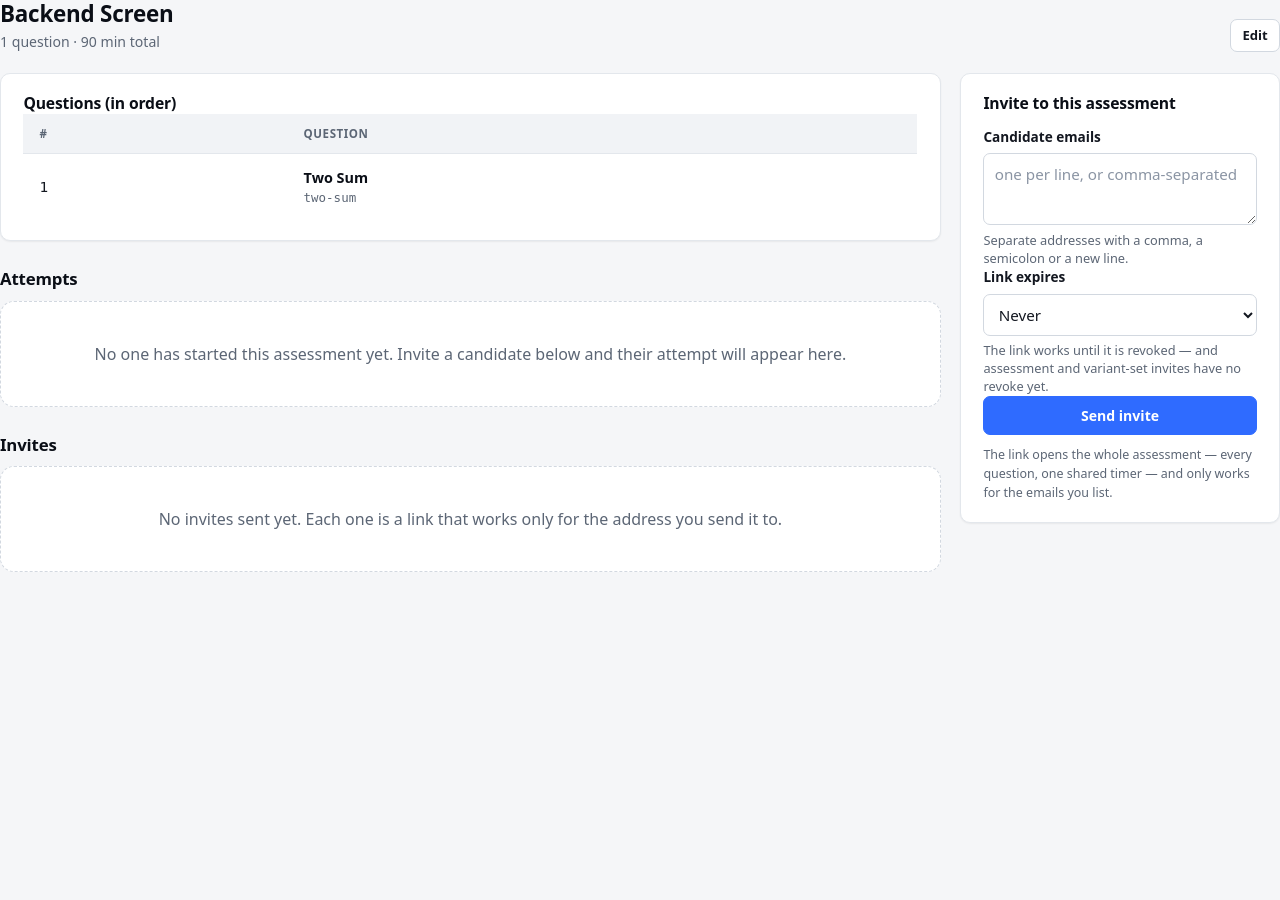
Test: AssessmentDetailPage — edit settings › saves settings with the current proctored value and unchanged slots, then re-renders
Expected: the heading "Backend Screen" is shown, [0,0,174,28]
Click the button "Edit".
click(1255, 36)  # box [1230,19,1279,52]
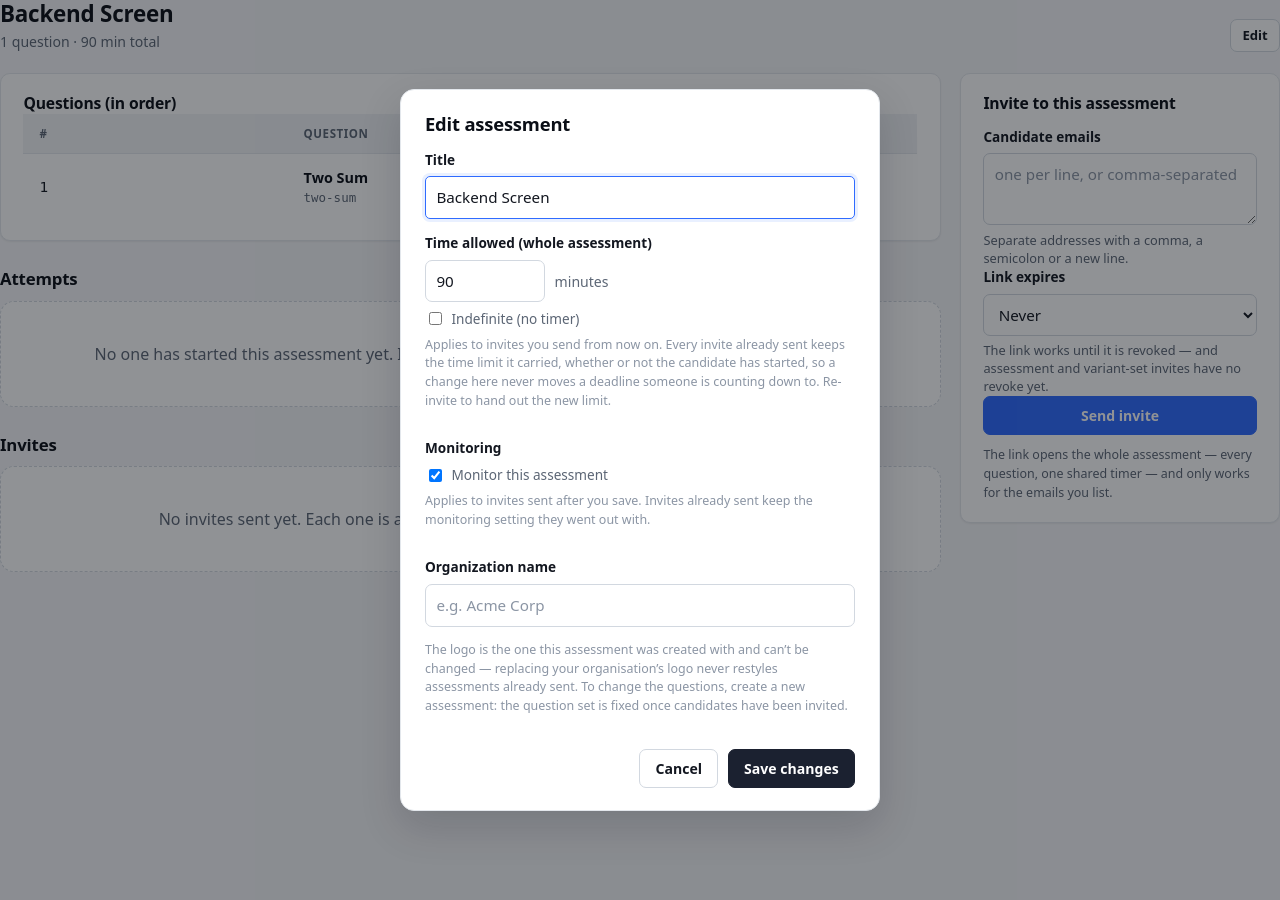
Replace the text in the field labelled "Title" with "Backend Screen v2" at (640, 198), box [425,176,855,219]
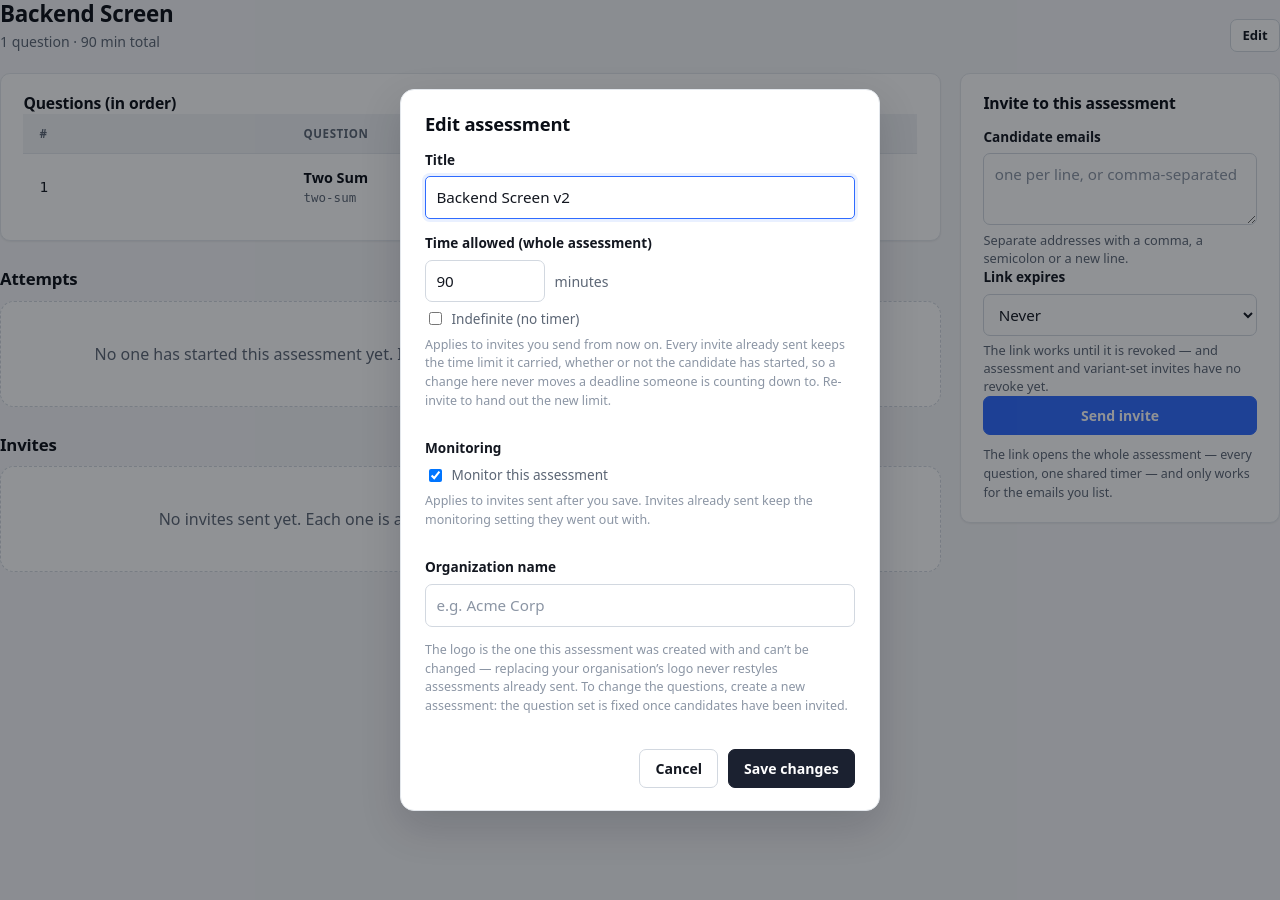
Click the checkbox named "monitor this assessment".
click(436, 475)  # box [429,469,442,482]
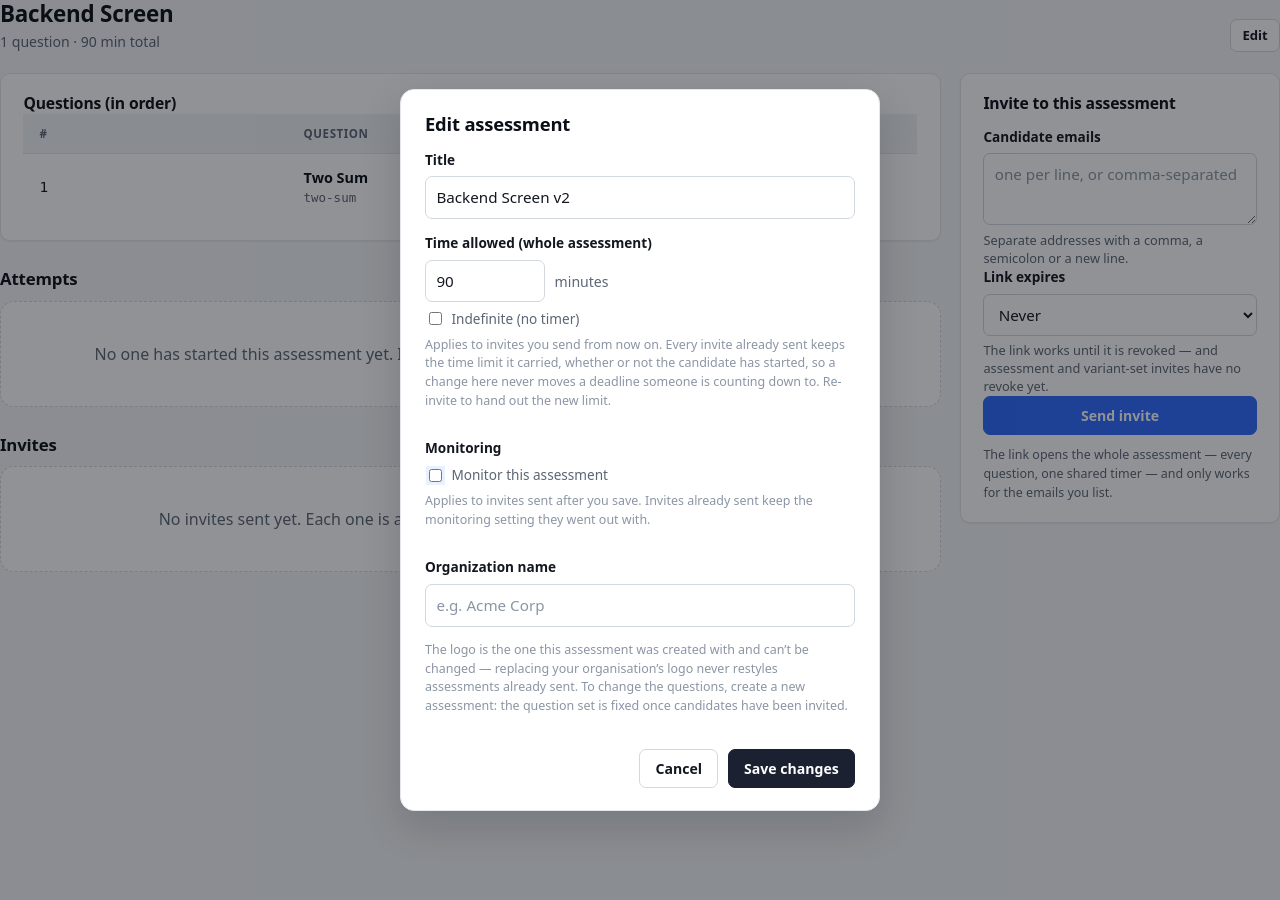
Click the button "Save changes".
click(791, 768)  # box [728,749,855,788]
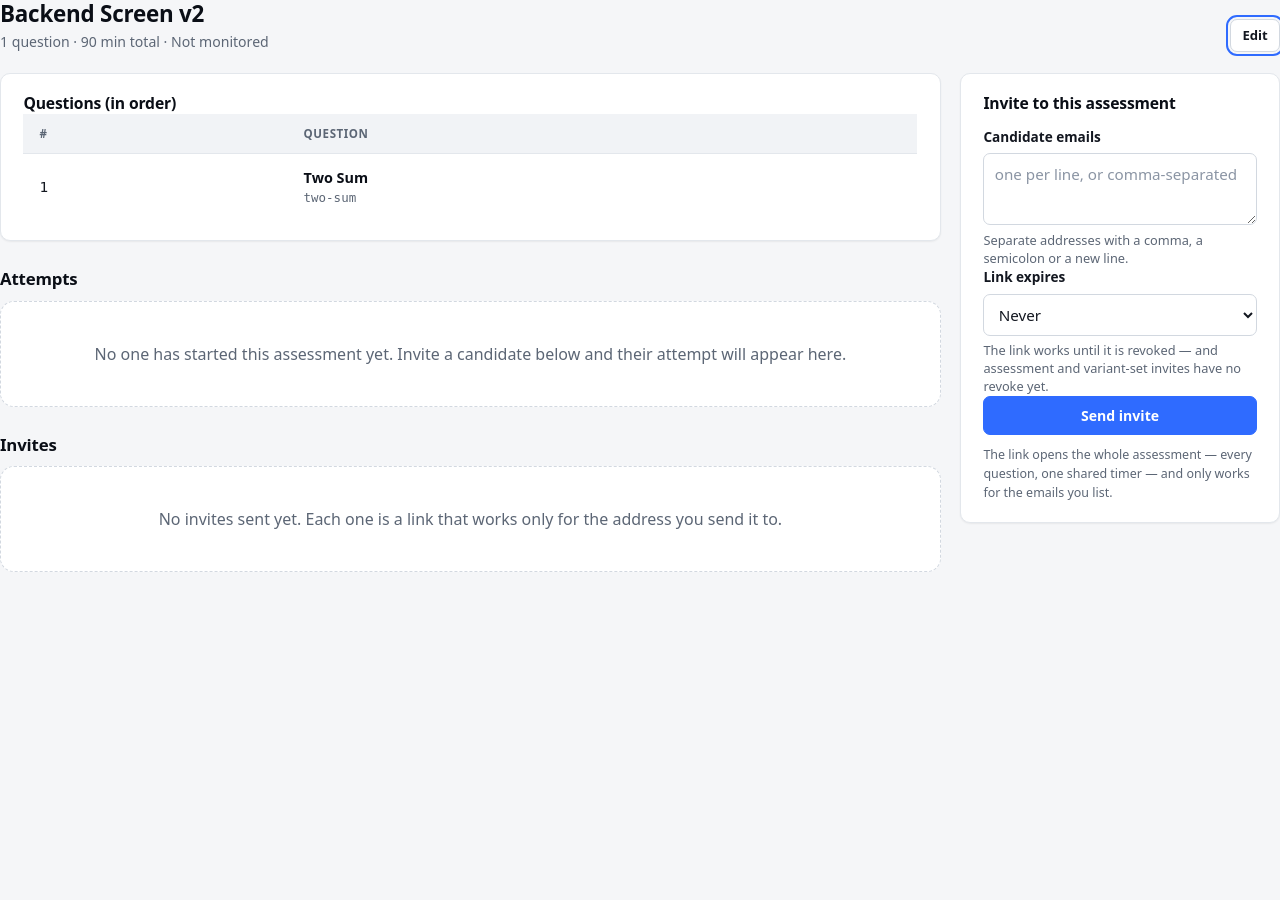
Expected: the text "1 question · 90 min total · Not monitored" is shown, [0,31,269,52]
